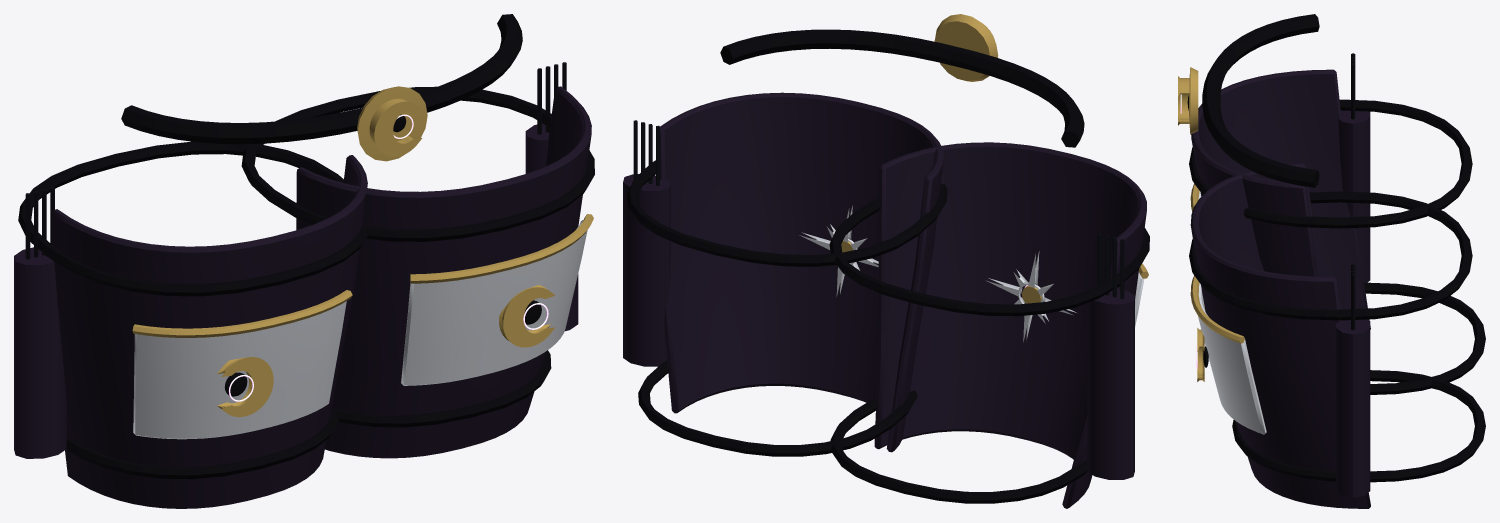
Rendered from esc_final_twilight_leggings.glb.
3 views of the same model, side by side, from view 1: azimuth 30°, elevation 25°; view 2: azimuth 150°, elevation 25°; view 3: azimuth 270°, elevation 25° (orthographic). The views are drawn at different scales.
Parts seen in each view (by area): view 1: AT_thigh_R, AT_thigh_L, esc_final_twilight_leggings; view 2: AT_thigh_L, AT_thigh_R, esc_final_twilight_leggings; view 3: AT_thigh_L, AT_thigh_R, esc_final_twilight_leggings.
Part boxes in pixels (x1,y1,x2,y2): AT_thigh_R: (14, 141, 367, 508); AT_thigh_L: (241, 62, 594, 458); esc_final_twilight_leggings: (121, 14, 522, 161); AT_thigh_L: (623, 92, 947, 456); AT_thigh_R: (829, 142, 1149, 508); esc_final_twilight_leggings: (720, 14, 1084, 342); AT_thigh_L: (1189, 163, 1485, 508); AT_thigh_R: (1189, 53, 1485, 394); esc_final_twilight_leggings: (1178, 14, 1319, 187).
Size of the model in its own units: 0.5454 by 0.3851 by 0.3072.
